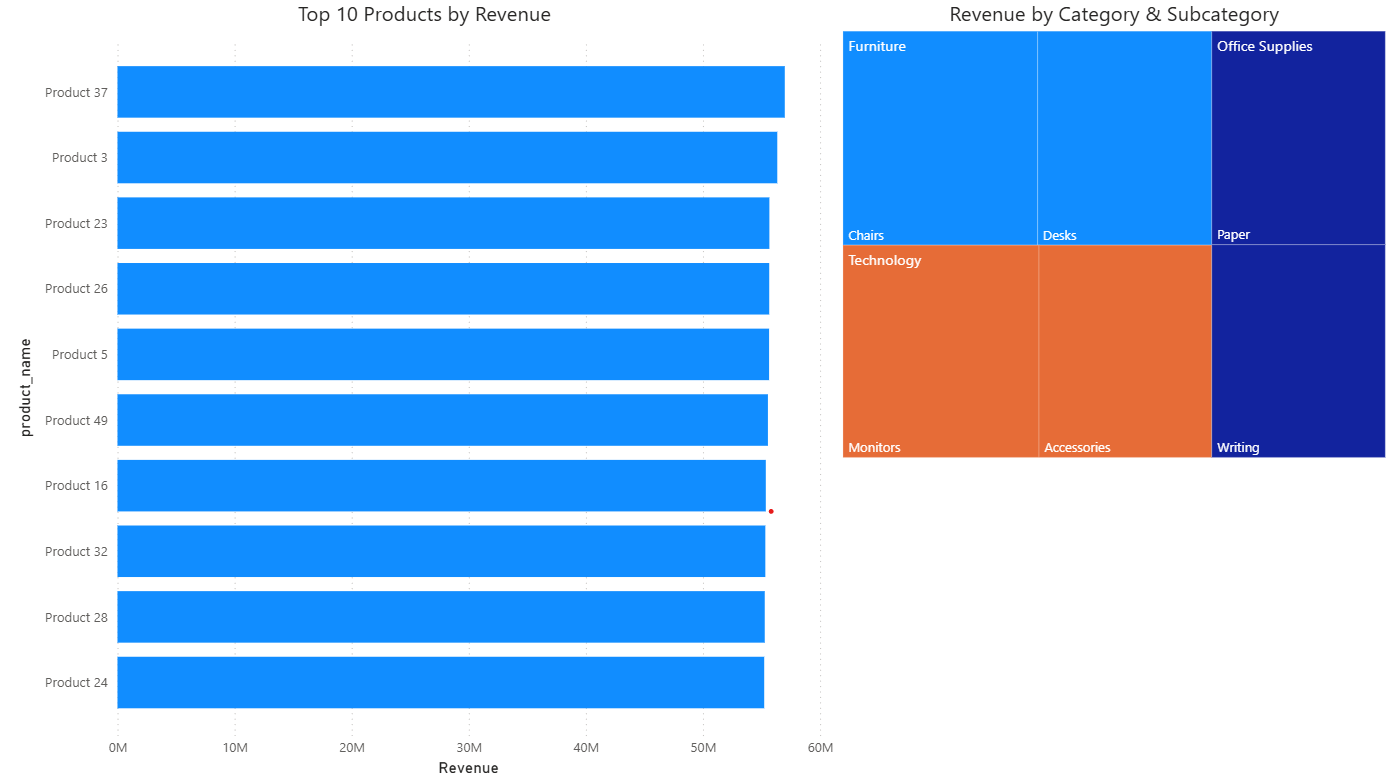

The dashboard page shown, as its layout file describes it:
{"tool":"powerbi","page":{"name":"Product Insights","canvas":[1280,720],"ordinal":1},"visuals":[{"type":"clusteredBarChart","title":"Top 10 Products by Revenue","fields":{"Category":["dim_product.product_name"],"Y":["fact_order.Revenue"]},"box":[9.8,0,761.8,720.2],"z":0},{"type":"treemap","title":"Revenue by Category & Subcategory","fields":{"Group":["dim_product.category"],"Details":["dim_product.subcategory"],"Values":["fact_order.Revenue"]},"box":[771.6,0,508.7,426.8],"z":1}]}

Visuals, with their boxes in screenshot pixels (x1, y1, x2, y2), scaled from the page's 1280x720 canvas onto the 1388x781 screenshot:
"Top 10 Products by Revenue" clusteredBarChart: Rect(11, 0, 837, 780)
"Revenue by Category & Subcategory" treemap: Rect(837, 0, 1387, 463)
